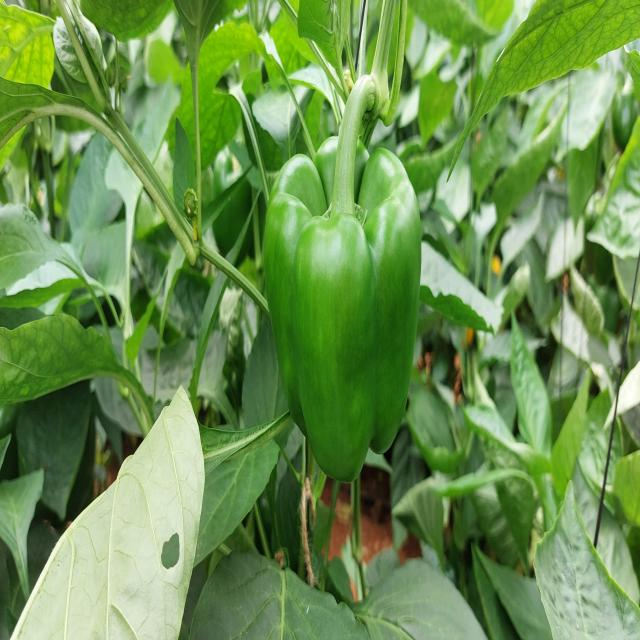Green--Not-ready-to-harvest: (268, 136, 423, 484)
